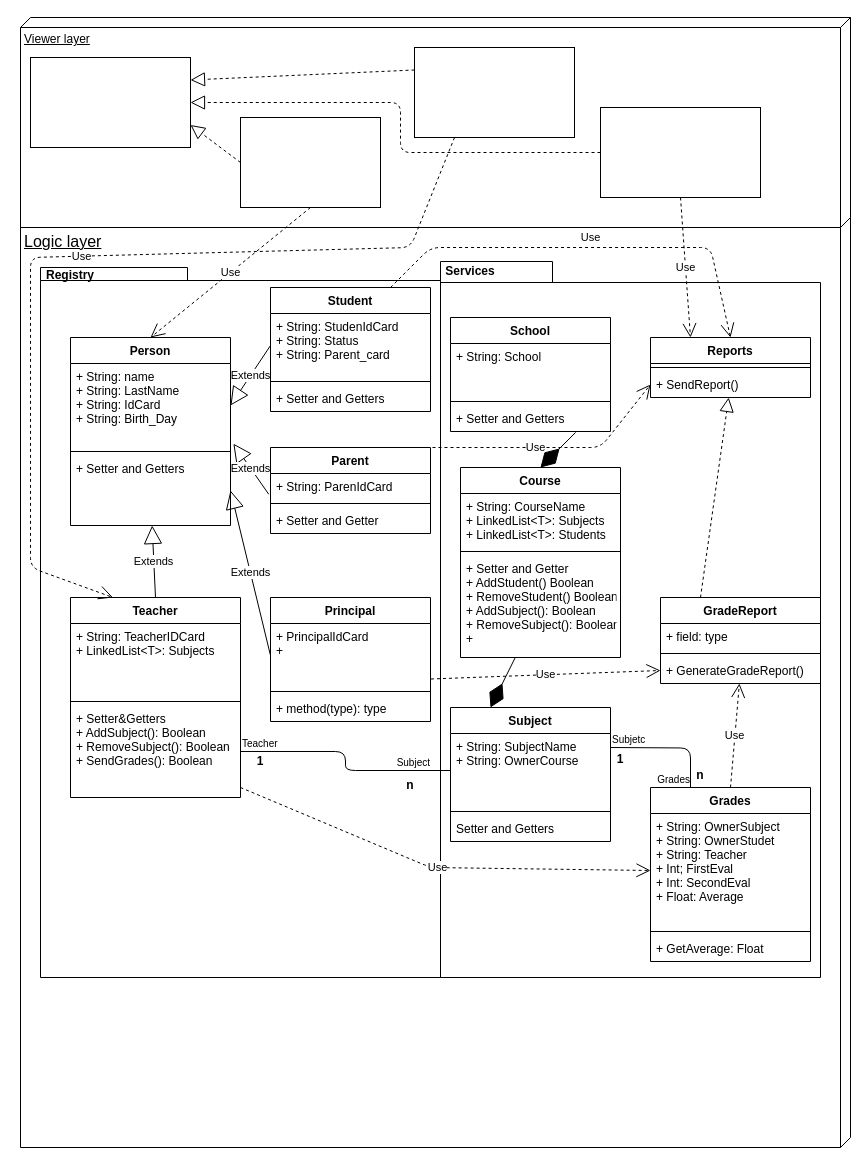
Image size: 868x1165. Some labels were removed from this diagram. The centre of each missing label's shape, as x and y in pixels:
"AddDataUI + + AlignTeacherSubject + SaveGrades" belongs at (494,92).
"FrontUI + + GenerateMainMenu(): Void" belongs at (110,102).
"RegistryUI + RegistryMenu(): Void + AddPerson(): Boolean" belongs at (310,162).
"ReportsUI + + GetGradesReport" belongs at (680,152).
